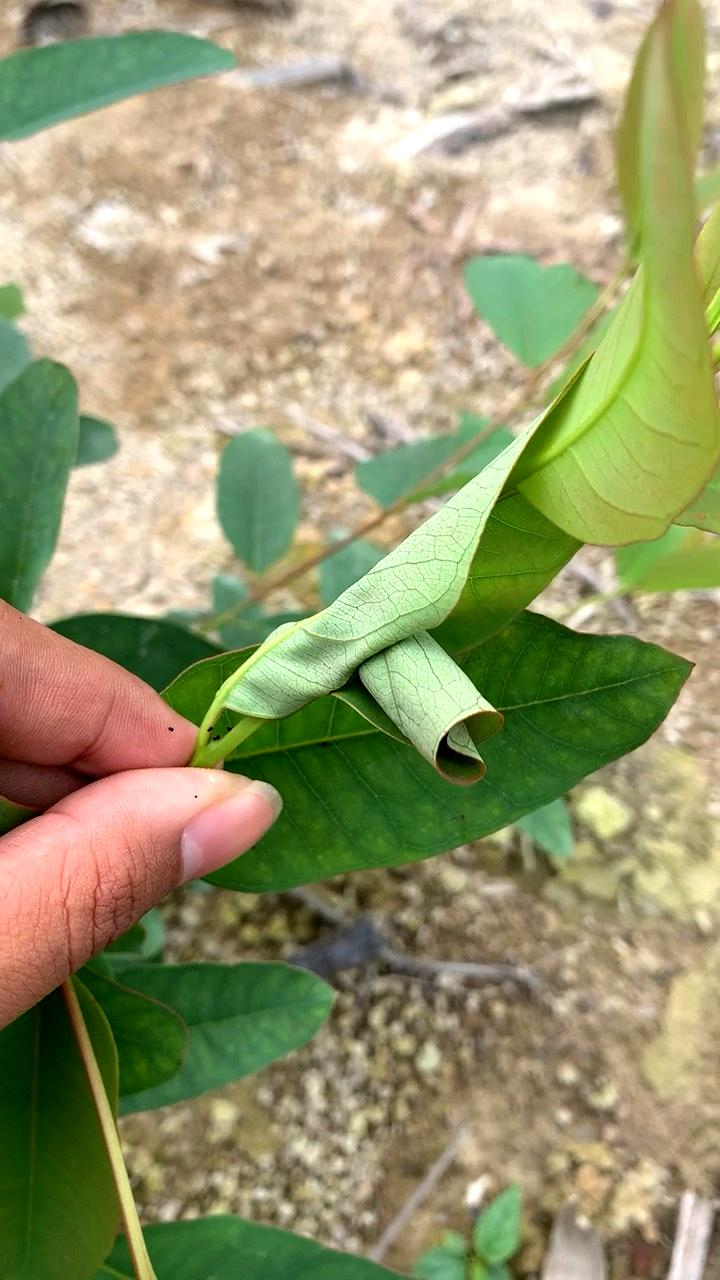Leaf Roller - Leaf: (268, 566, 515, 802)
